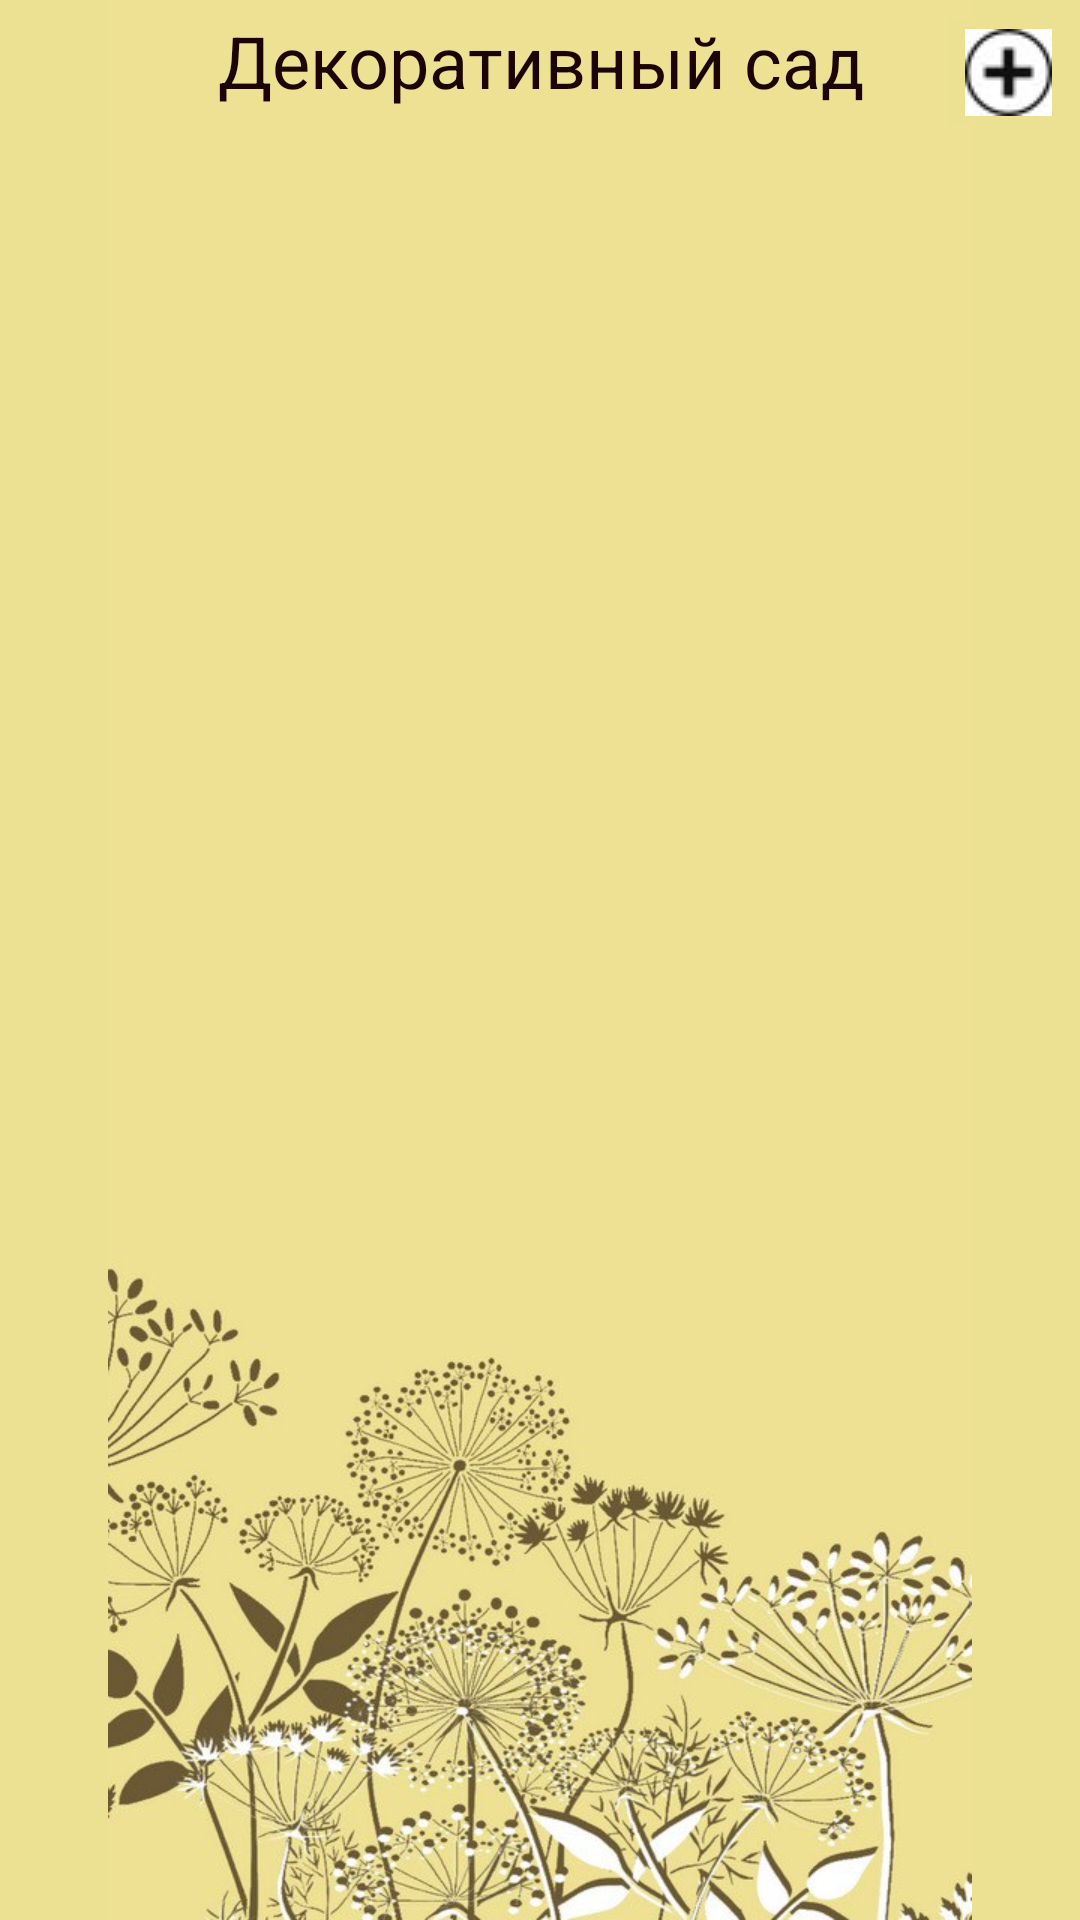

Where to tap for icons on this 1080 × 1920 app screen, as (x,y):
add: (1008,72)
